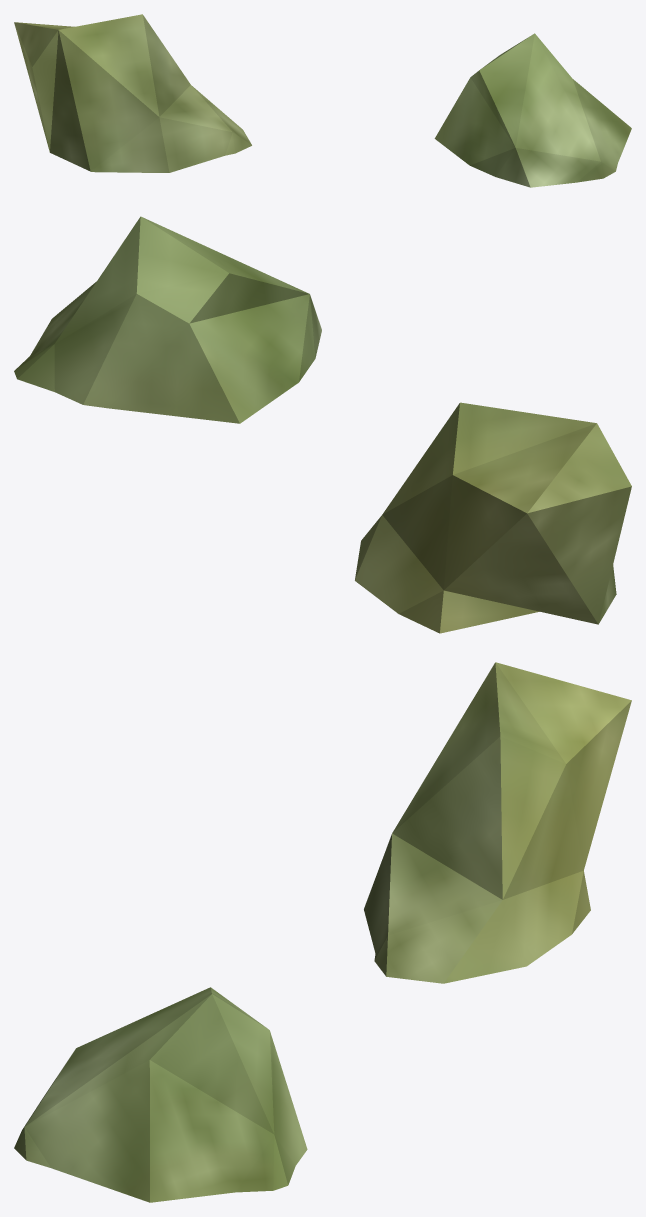
3 views of the same model, one above another, from view 1: azimuth 30°, elevation 25°; view 2: azimuth 150°, elevation 25°; view 3: azimuth 270°, elevation 25° (orthographic). The views are drawn at different scales.
Bounding box in the file's own units: 1.11 × 0.2802 × 0.7988.
1 material, 1 textured.
